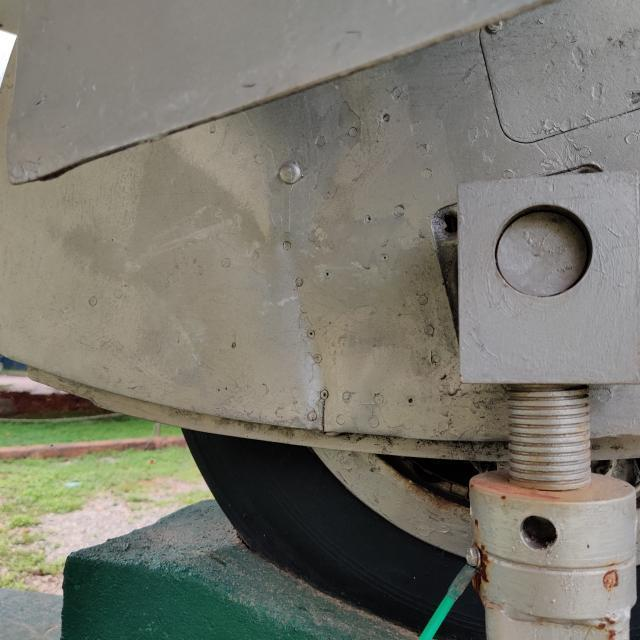Crack: (317, 394, 330, 436)
